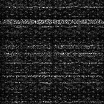lte: (1, 18, 104, 24), (1, 44, 104, 49), (1, 60, 104, 64), (1, 73, 104, 77)
